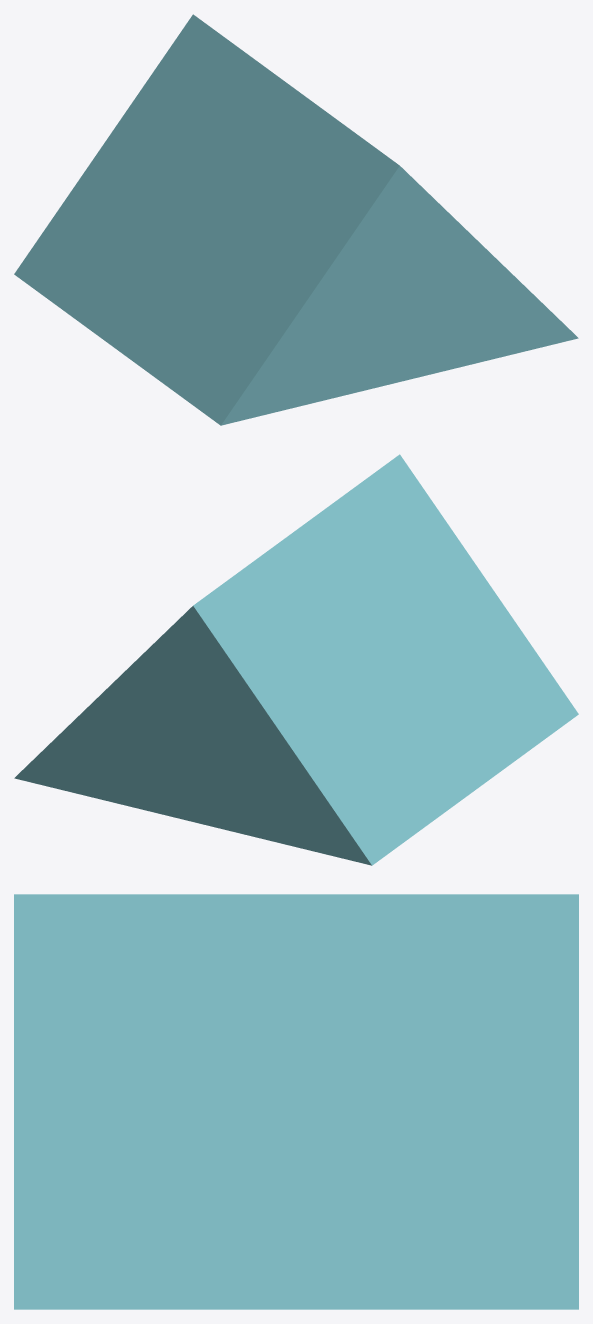
Rendered from tri_prism.glb.
3 views of the same model, one above another, from view 1: azimuth 30°, elevation 25°; view 2: azimuth 150°, elevation 25°; view 3: azimuth 270°, elevation 25° (orthographic). The views are drawn at different scales.
Visible parts, largest first — view 1: geometry_0; view 2: geometry_0; view 3: geometry_0.
Boxes of the visible parts, x1=… form: geometry_0: x1=14, y1=14, x2=578, y2=425; geometry_0: x1=14, y1=454, x2=578, y2=865; geometry_0: x1=14, y1=894, x2=578, y2=1309.
Size of the model in its own units: 0.6 by 0.3464 by 0.6.
